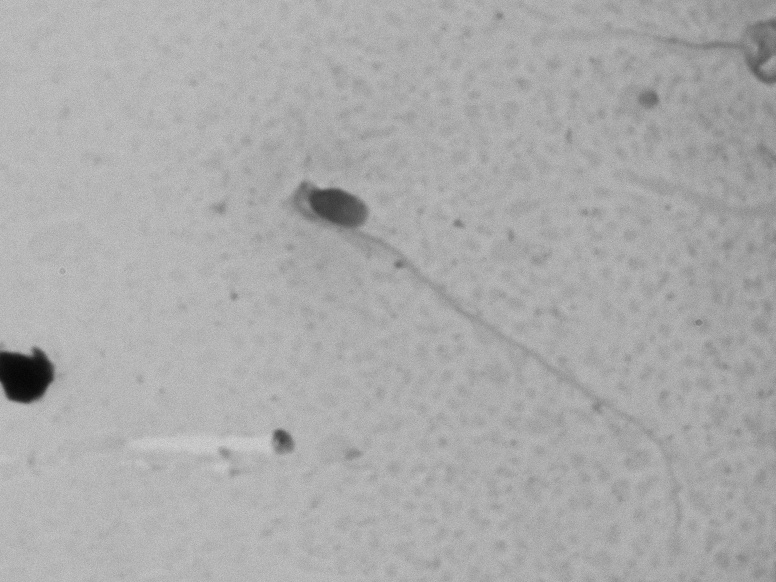Abnormal: (276, 148, 665, 492)
